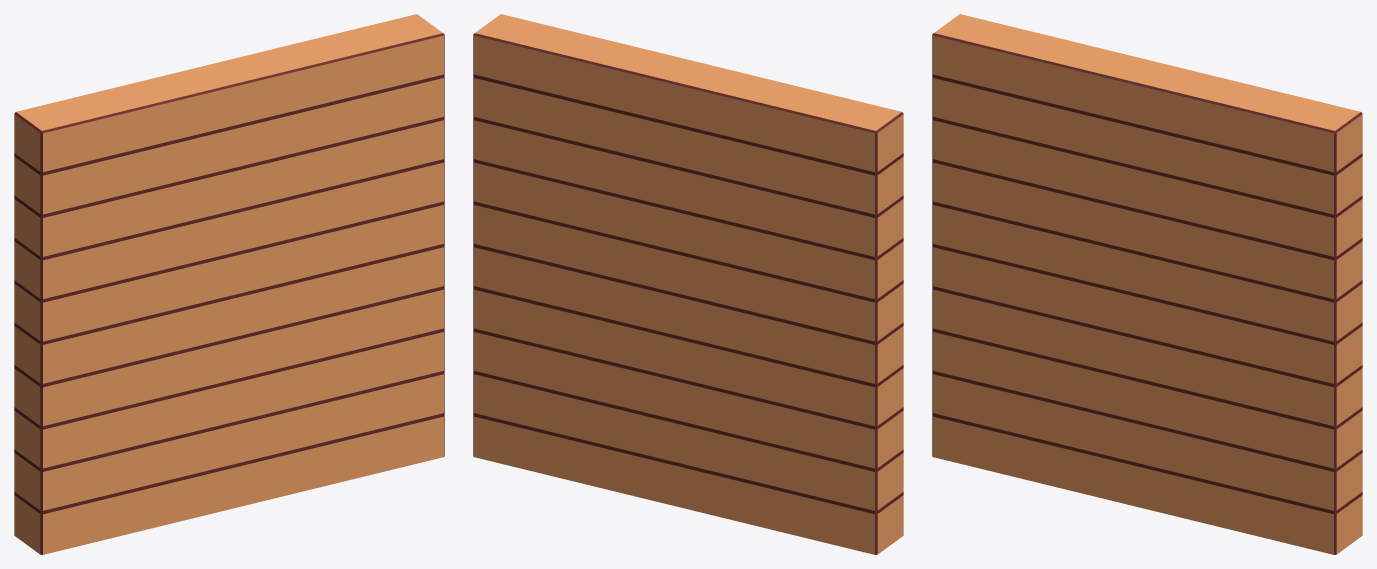
The model's file is 4_tuongtron_2.fbx.
3 views of the same model, side by side, from view 1: azimuth 30°, elevation 25°; view 2: azimuth 150°, elevation 25°; view 3: azimuth 330°, elevation 25° (orthographic).
Visible parts, largest first — view 1: tuongtron_2; view 2: tuongtron_2; view 3: tuongtron_2.
Part boxes in pixels (x1,y1,x2,y2): tuongtron_2: (14, 14, 444, 554); tuongtron_2: (473, 14, 903, 554); tuongtron_2: (932, 14, 1362, 554).
Bounding box in the file's own units: 200 × 200 × 24.
